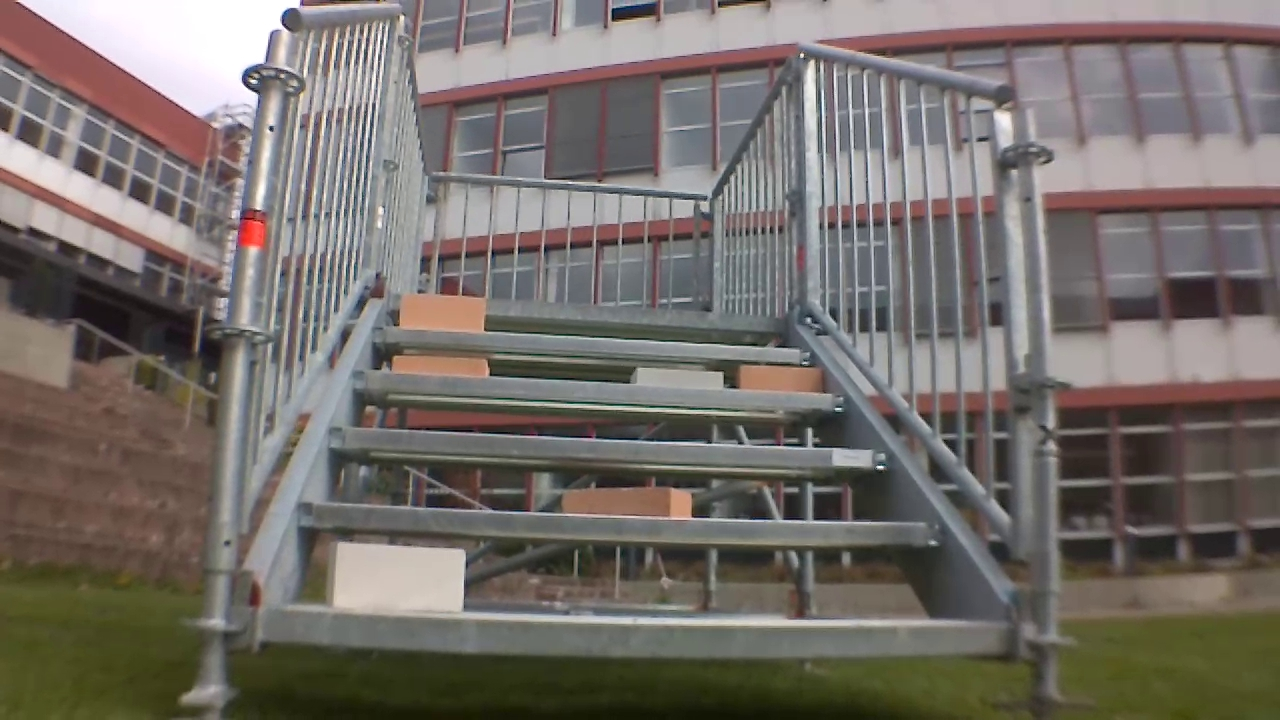brick: (329, 549, 471, 609), (559, 484, 693, 513), (403, 293, 487, 325), (635, 367, 725, 389), (390, 354, 487, 372), (736, 365, 821, 384)
edge: (262, 615, 1018, 659), (348, 372, 844, 408), (332, 432, 890, 461), (298, 507, 948, 530), (385, 295, 790, 324), (362, 331, 808, 349)
stairs: (201, 8, 1044, 686)
steps: (246, 307, 1004, 661)
